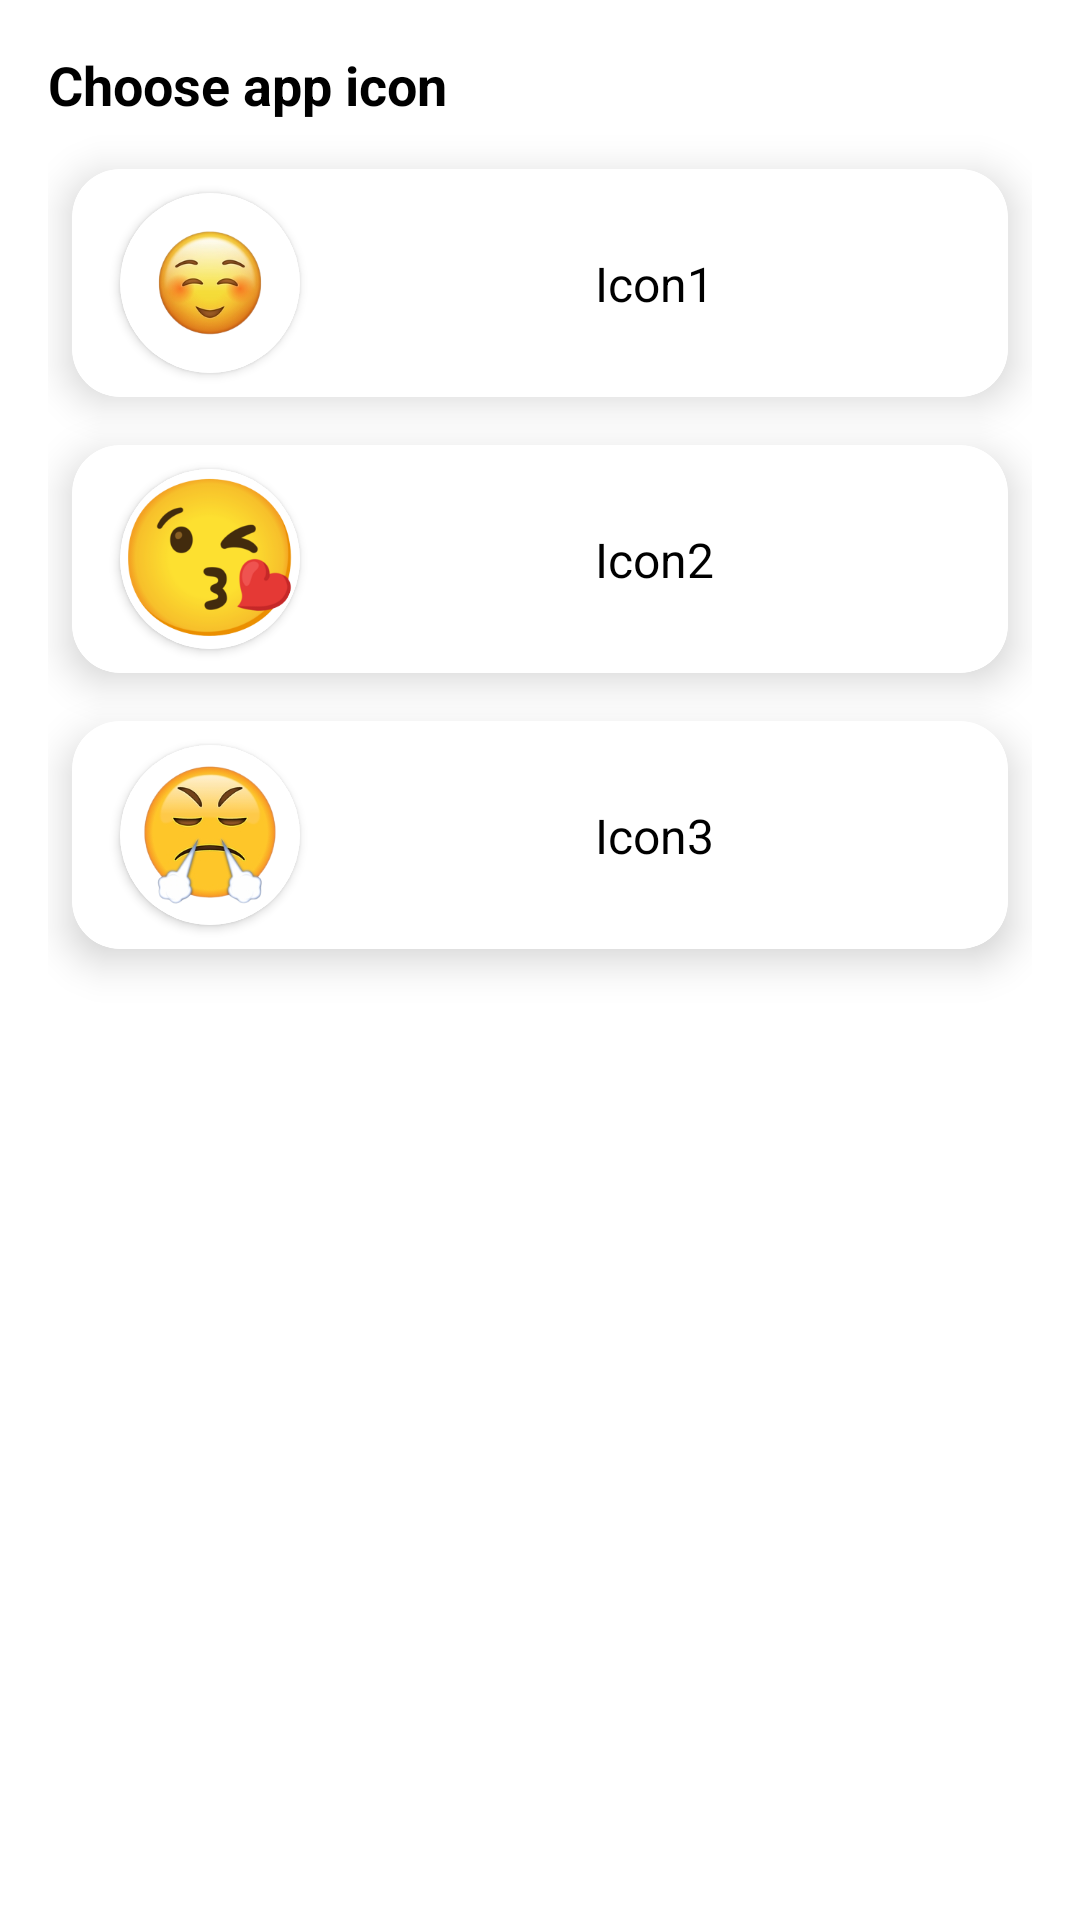

Point at icon controls on the screen. Image size 1080w x 1920h, points as (x=x, y=y).
happyicon: (x=190, y=292)
notsatisifiedicon: (x=205, y=845)
